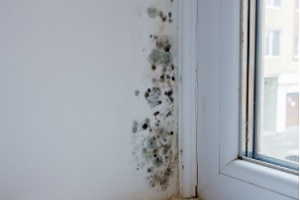schimmel: (145, 33, 177, 85), (138, 122, 177, 161), (142, 89, 176, 113), (140, 7, 175, 25), (146, 168, 174, 188)
